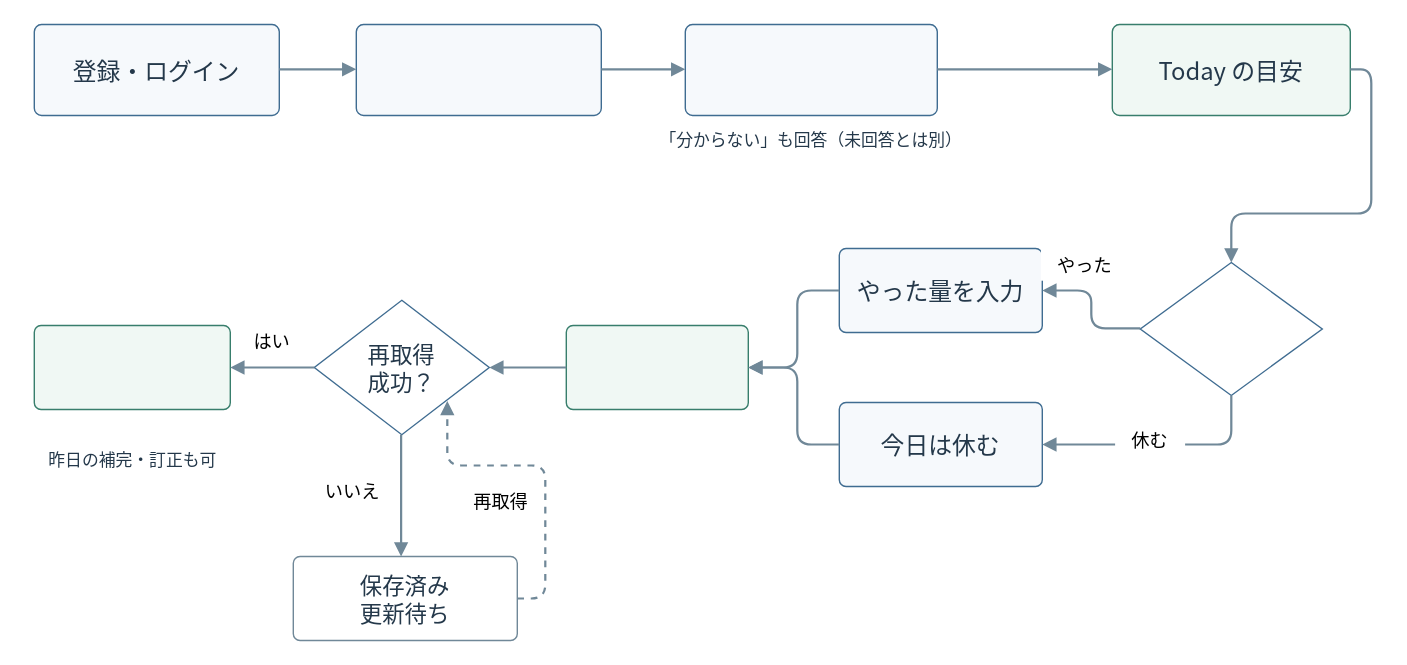
The diagram is 1407 pixels wide and 665 high, and some of its shapes have lost their labels. The centre of each missing label's shape, as x and y in pixels:
Goal を作成: the point at 478,69
今日の 記録: the point at 1230,328
保存: the point at 656,367
初期の2問に回答: the point at 810,69
記録済み 履歴で確認: the point at 131,367
